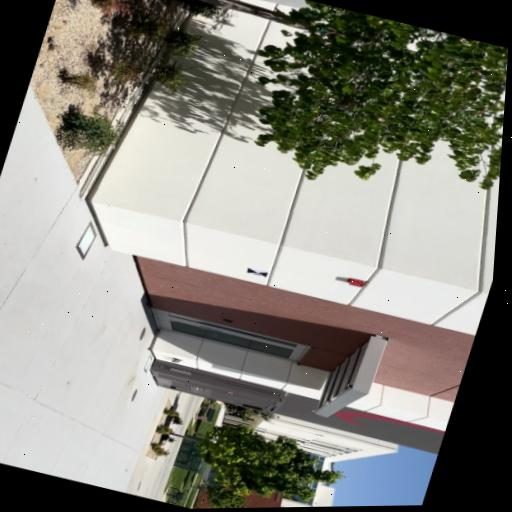target6: (246, 267, 268, 279)
